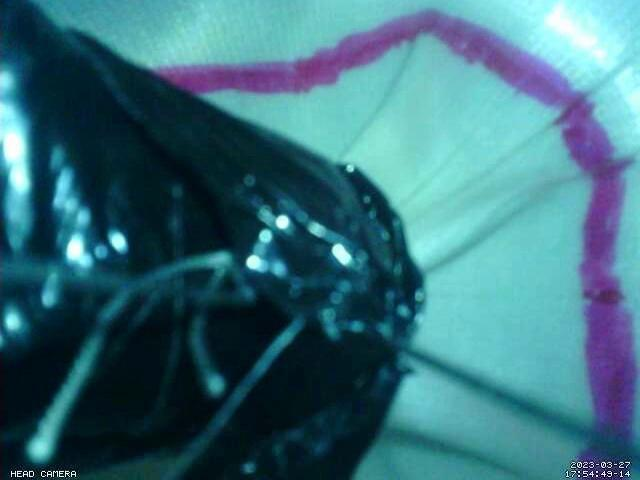red-circle: (153, 7, 640, 480)
